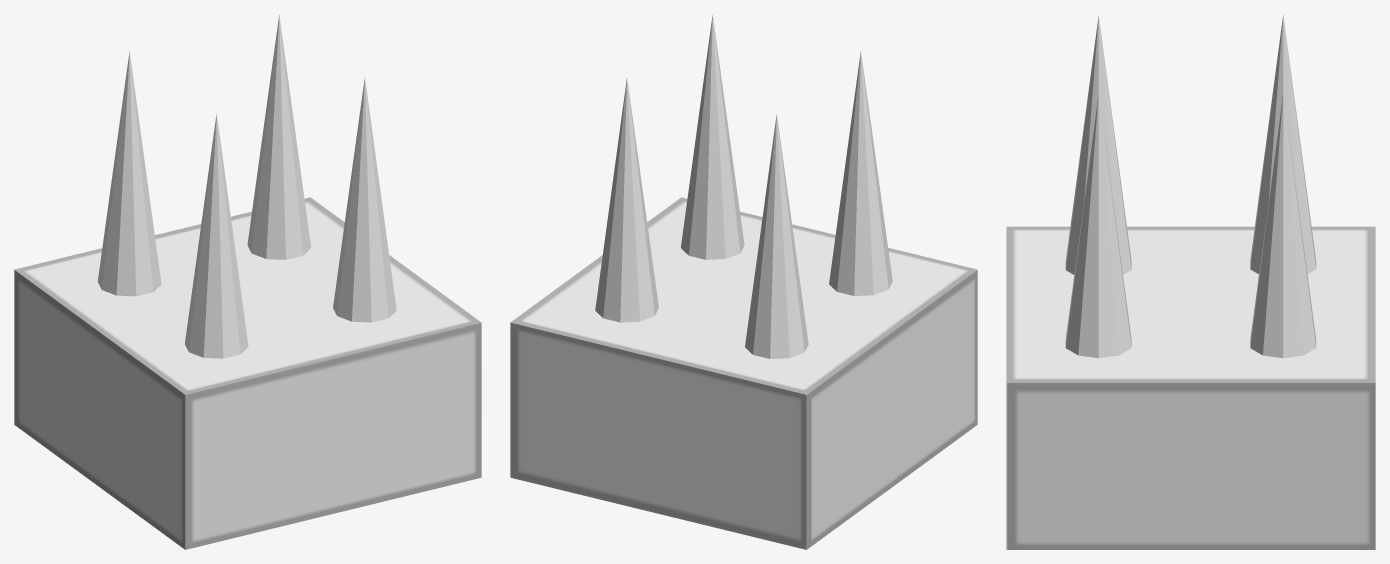
File: NeedleBlock.obj
3 views of the same model, side by side, from view 1: azimuth 30°, elevation 25°; view 2: azimuth 150°, elevation 25°; view 3: azimuth 270°, elevation 25° (orthographic). The views are drawn at different scales.
Size of the model in its own units: 1 by 1.25 by 1.
Materials: 1 (1 with a texture image).
